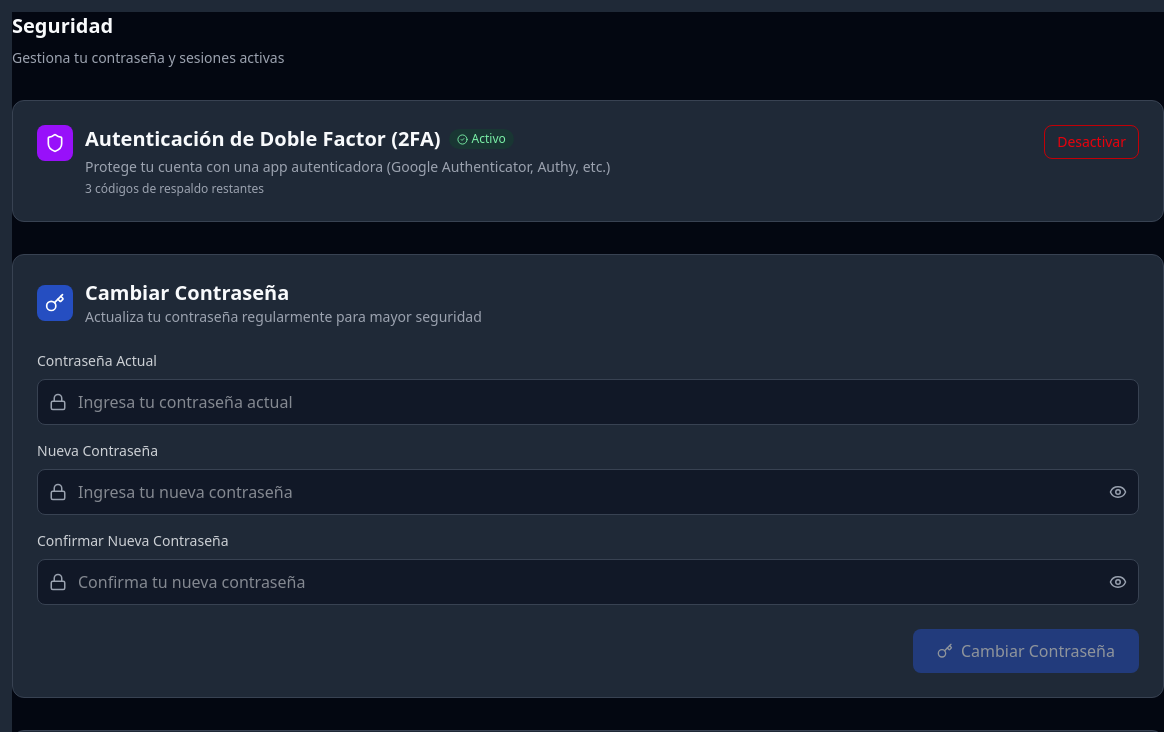
Test case: SeguridadComponent fortaleza de contraseña › "Abcdefg1" -> Contraseña aceptable
Type "Abcdefg1" into the password field with placeholder "Ingresa tu nueva contraseña". click: (588, 492)
box: [37,469,1139,515]
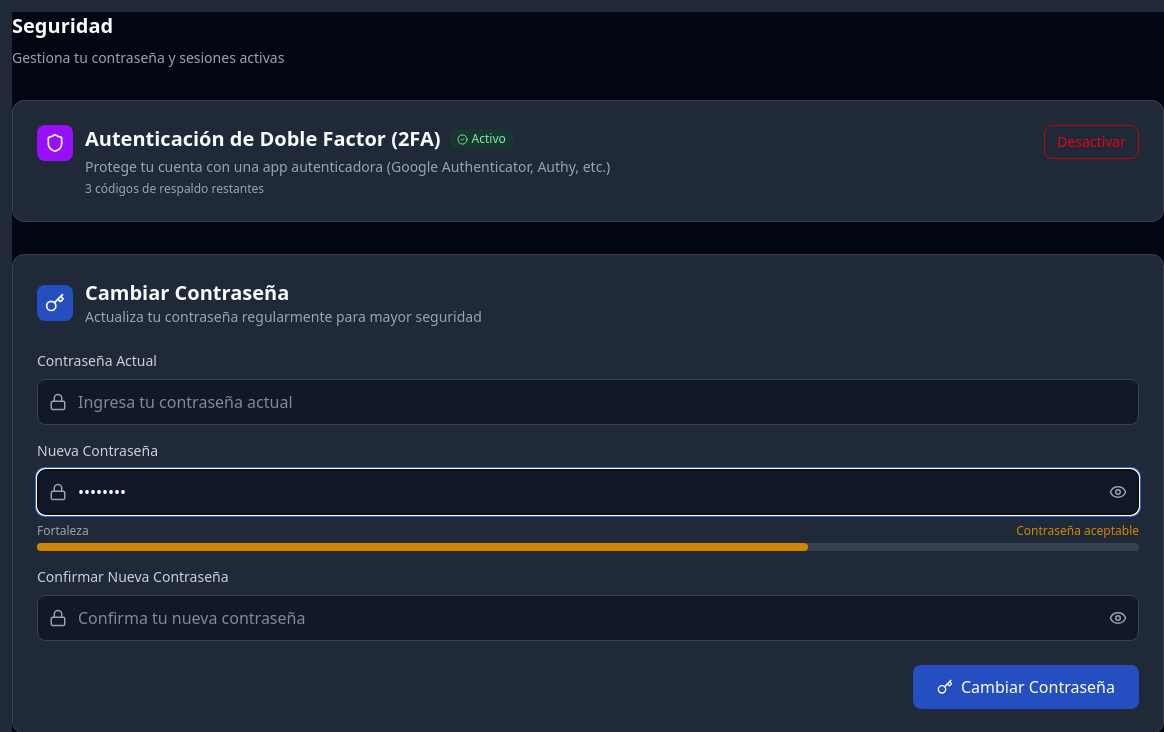
Expected: the text "Contraseña aceptable" is shown, [1016,523,1139,539]
